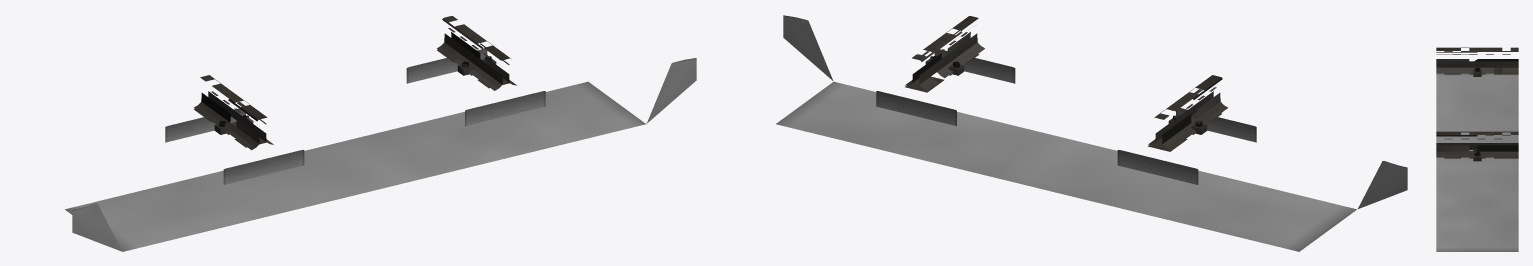
File: concretebridge_base.obj
3 renders of one model, left to right at view 1: azimuth 30°, elevation 25°; view 2: azimuth 150°, elevation 25°; view 3: azimuth 270°, elevation 25°, orthographic. The views are drawn at different scales.
Parts seen in each view (by area): view 1: cube, cuboid, rail; view 2: cube, rail, cuboid; view 3: cube, rail, cuboid.
Part boxes in pixels (<box>): cube: <box>65,58,696,251</box>; cuboid: <box>165,48,545,184</box>; rail: <box>194,16,516,150</box>; cube: <box>776,15,1407,251</box>; rail: <box>905,16,1227,151</box>; cuboid: <box>876,49,1256,184</box>; cube: <box>1436,73,1518,251</box>; rail: <box>1436,47,1518,158</box>; cuboid: <box>1473,60,1481,161</box>.
Size of the model in its own units: 3.88 by 0.5875 by 0.625.
2 materials, 2 textured.
